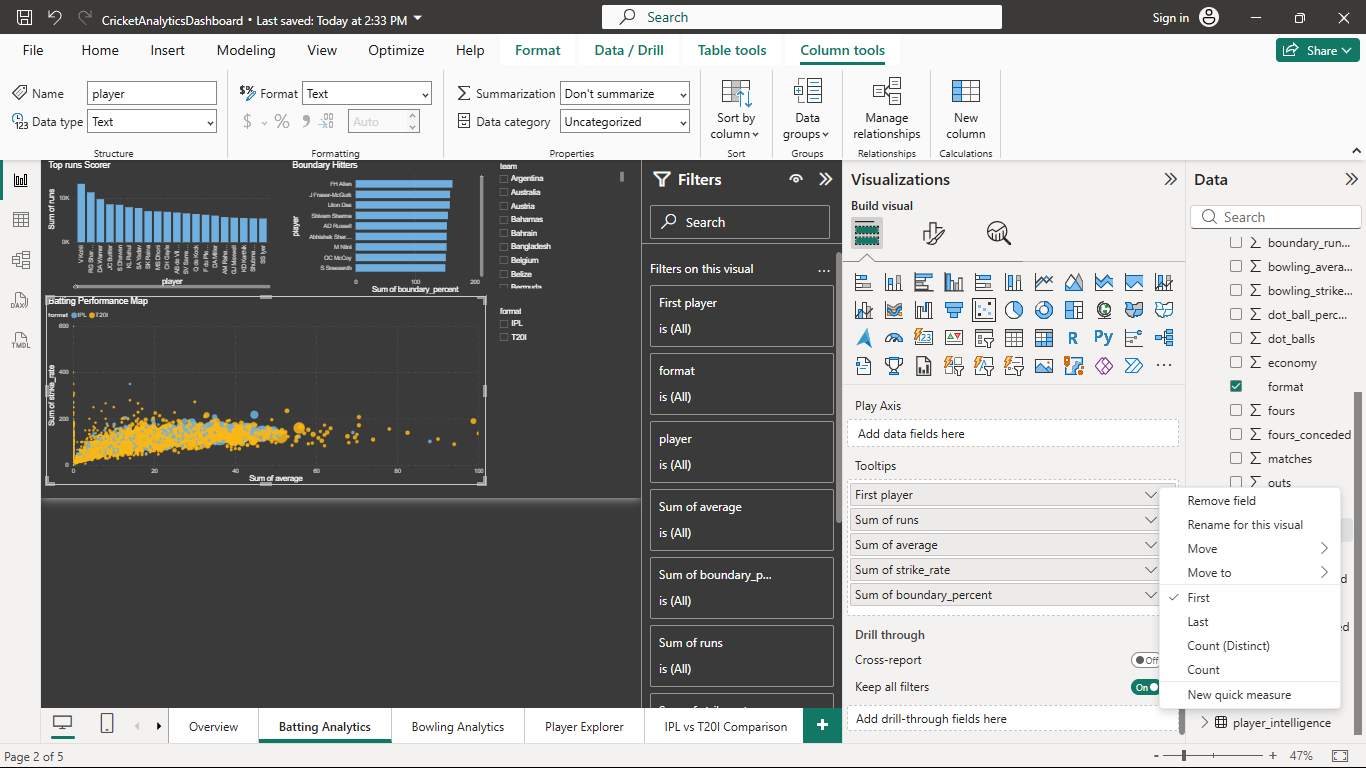

The page's visual inventory and layout, read from the dashboard file:
{"tool":"powerbi","page":{"name":"Batting Analytics","canvas":[1280,720],"ordinal":1},"visuals":[{"type":"columnChart","title":"Top runs Scorer","fields":{"Category":["master_player_table.player"],"Y":["Sum(master_player_table.runs)"]},"box":[10.7,0,484.3,279.5],"z":0},{"type":"scatterChart","title":"Batting Performance Map","fields":{"X":["Sum(master_player_table.average)"],"Y":["Sum(master_player_table.strike_rate)"],"Size":["Sum(master_player_table.runs)"],"Series":["master_player_table.format"],"Category":["master_player_table.player"]},"box":[10.7,290.1,938.7,403.2],"z":1000},{"type":"clusteredBarChart","title":"Boundary Hitters","fields":{"Category":["master_player_table.player"],"Y":["Sum(master_player_table.boundary_percent)"]},"box":[531.2,0,418.1,290.1],"z":2000},{"type":"slicer","fields":{"Values":["master_player_table.format"]},"box":[966.4,309.3,185.6,164.3],"z":3000},{"type":"slicer","fields":{"Values":["master_player_table.team"]},"box":[966.4,0,281.6,279.5],"z":4000}]}

Visuals, with their boxes on the page's 1280x720 design canvas (x1, y1, x2, y2). These are canvas units, not pixel positions in the 1366x768 screenshot, which may show the page scaled, cropped or inside an application window:
"Top runs Scorer" columnChart: bbox=(11, 0, 495, 280)
"Batting Performance Map" scatterChart: bbox=(11, 290, 949, 693)
"Boundary Hitters" clusteredBarChart: bbox=(531, 0, 949, 290)
slicer - master_player_table.format: bbox=(966, 309, 1152, 474)
slicer - master_player_table.team: bbox=(966, 0, 1248, 280)
